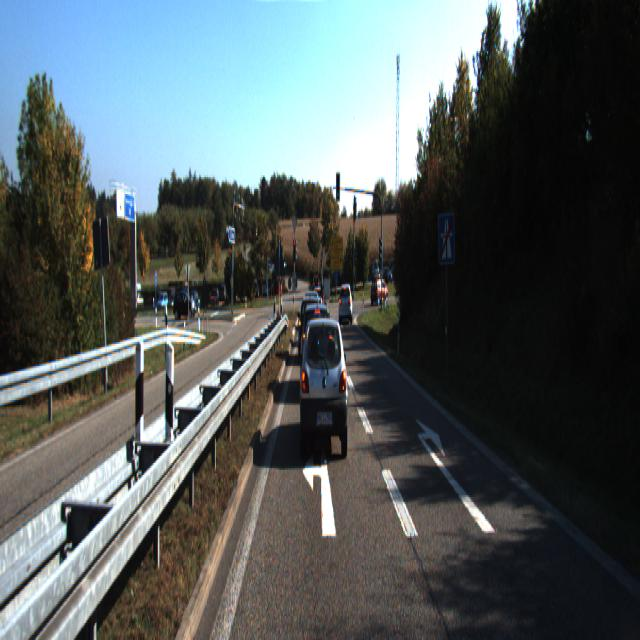Car: (300, 310, 350, 460), (300, 298, 334, 396), (338, 281, 352, 322)
